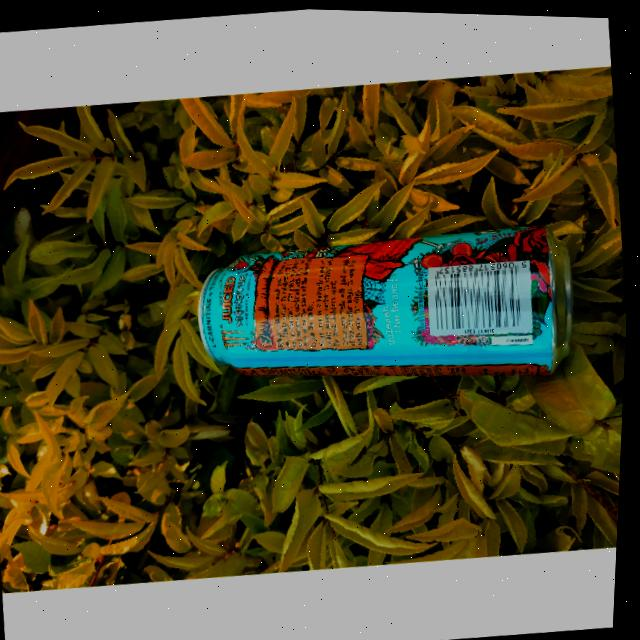Monster Mango Loco: (192, 209, 580, 400)
